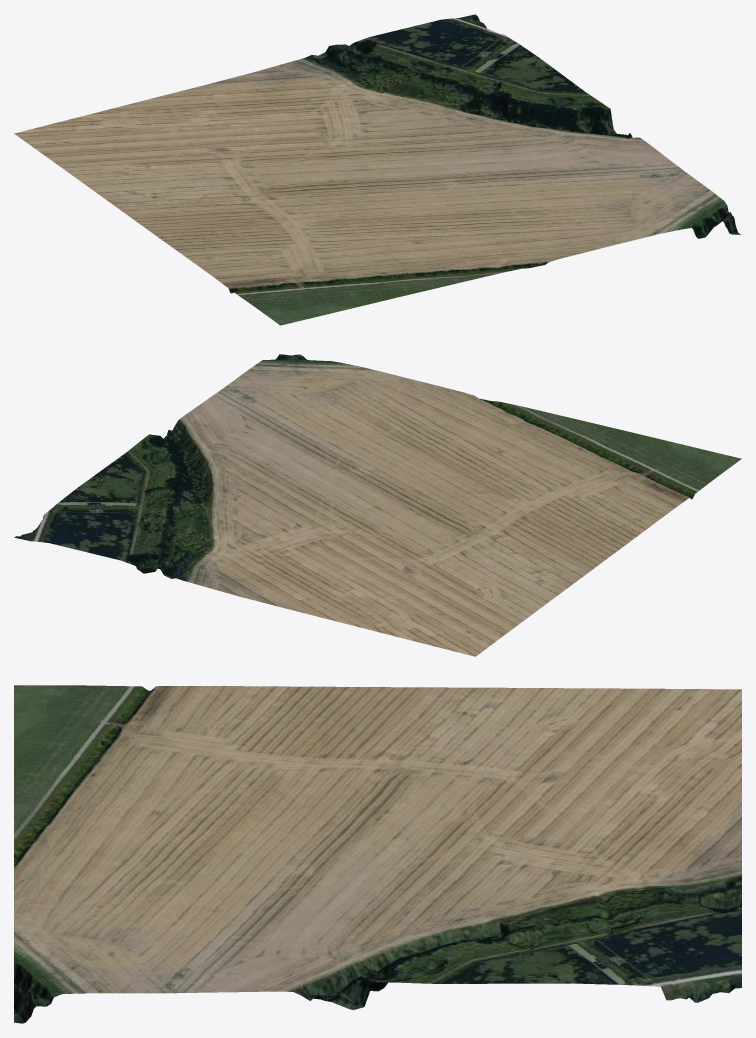
File: map_12_1023_1720.dae
The picture shows the model from 3 angles, top to bottom: view 1: azimuth 30°, elevation 25°; view 2: azimuth 150°, elevation 25°; view 3: azimuth 270°, elevation 25°; orthographic projection. The views are drawn at different scales.
Parts seen in each view (by area): view 1: Ter0; view 2: Ter0; view 3: Ter0.
Part boxes in pixels (box(x1,y1,x2,y2)): Ter0: box(14, 14, 741, 325); Ter0: box(14, 354, 741, 656); Ter0: box(14, 685, 741, 1023).
Bounding box in the file's own units: 511 × 511 × 32.48.
3 materials, 3 textured.
